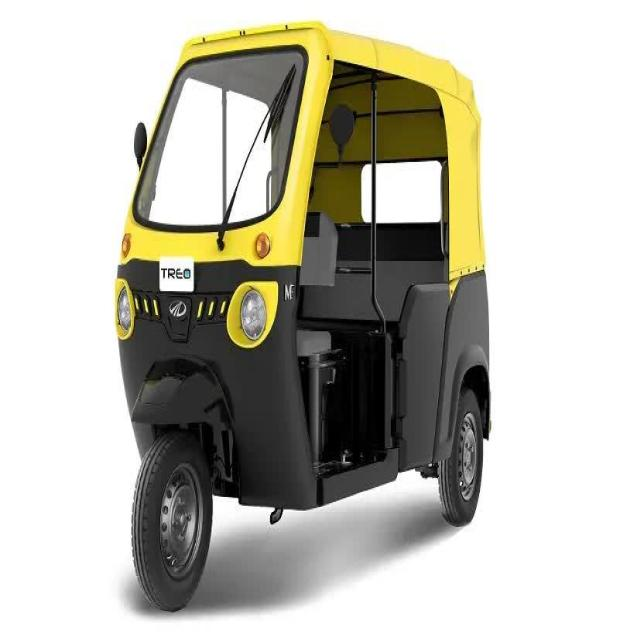autorickshaw: (115, 22, 490, 609)
